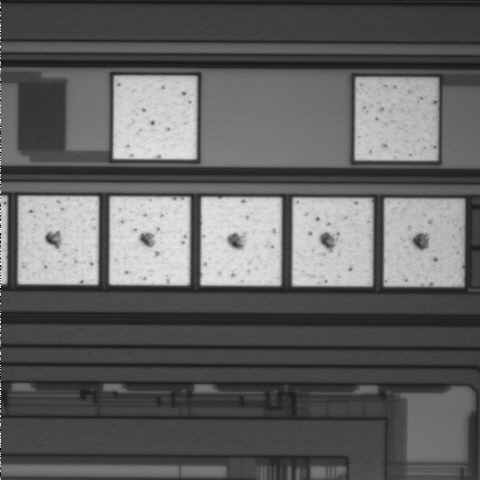pad: (109, 197, 190, 285), (201, 197, 281, 286), (18, 196, 98, 284), (292, 198, 372, 286), (113, 76, 197, 159), (384, 199, 463, 286), (355, 78, 437, 160)
